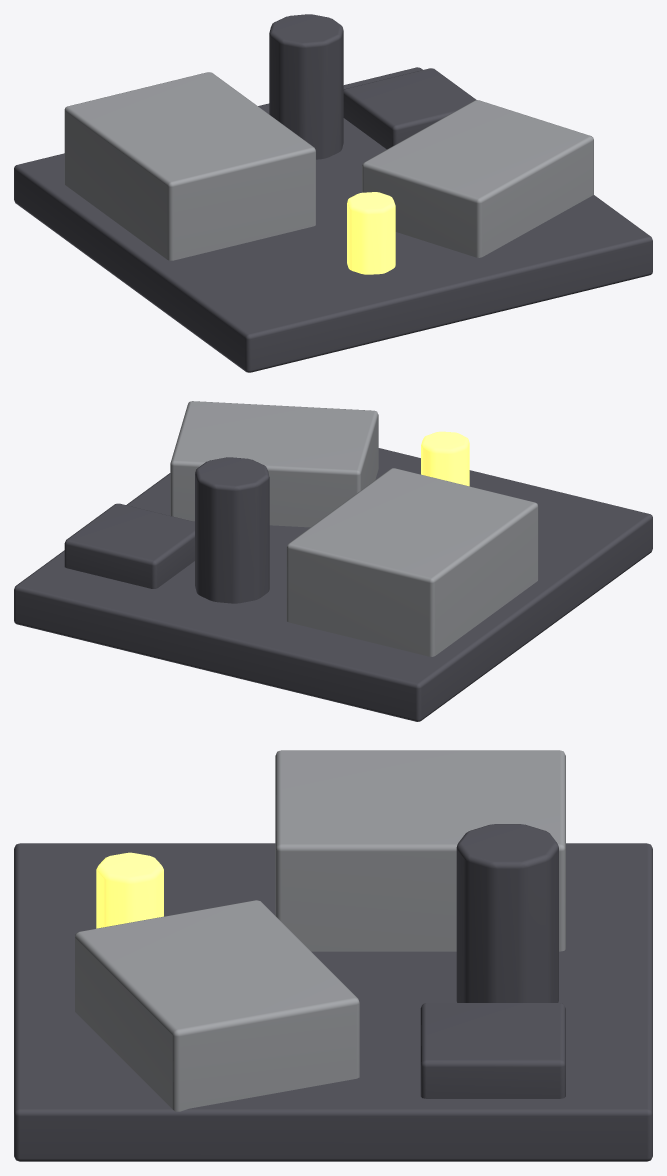
The model's file is mech_kit_greeble_cluster.glb.
The picture shows the model from 3 angles, top to bottom: view 1: azimuth 30°, elevation 25°; view 2: azimuth 150°, elevation 25°; view 3: azimuth 270°, elevation 25°; orthographic projection. The views are drawn at different scales.
Visible parts, largest first — view 1: mech_kit_greeble_cluster; view 2: mech_kit_greeble_cluster; view 3: mech_kit_greeble_cluster.
Boxes of the visible parts, left/top/right/bottom form: mech_kit_greeble_cluster: left=14, top=14, right=652, bottom=372; mech_kit_greeble_cluster: left=14, top=401, right=652, bottom=721; mech_kit_greeble_cluster: left=14, top=750, right=652, bottom=1161.
Bounding box in the file's own units: 0.22 × 0.08 × 0.22.
